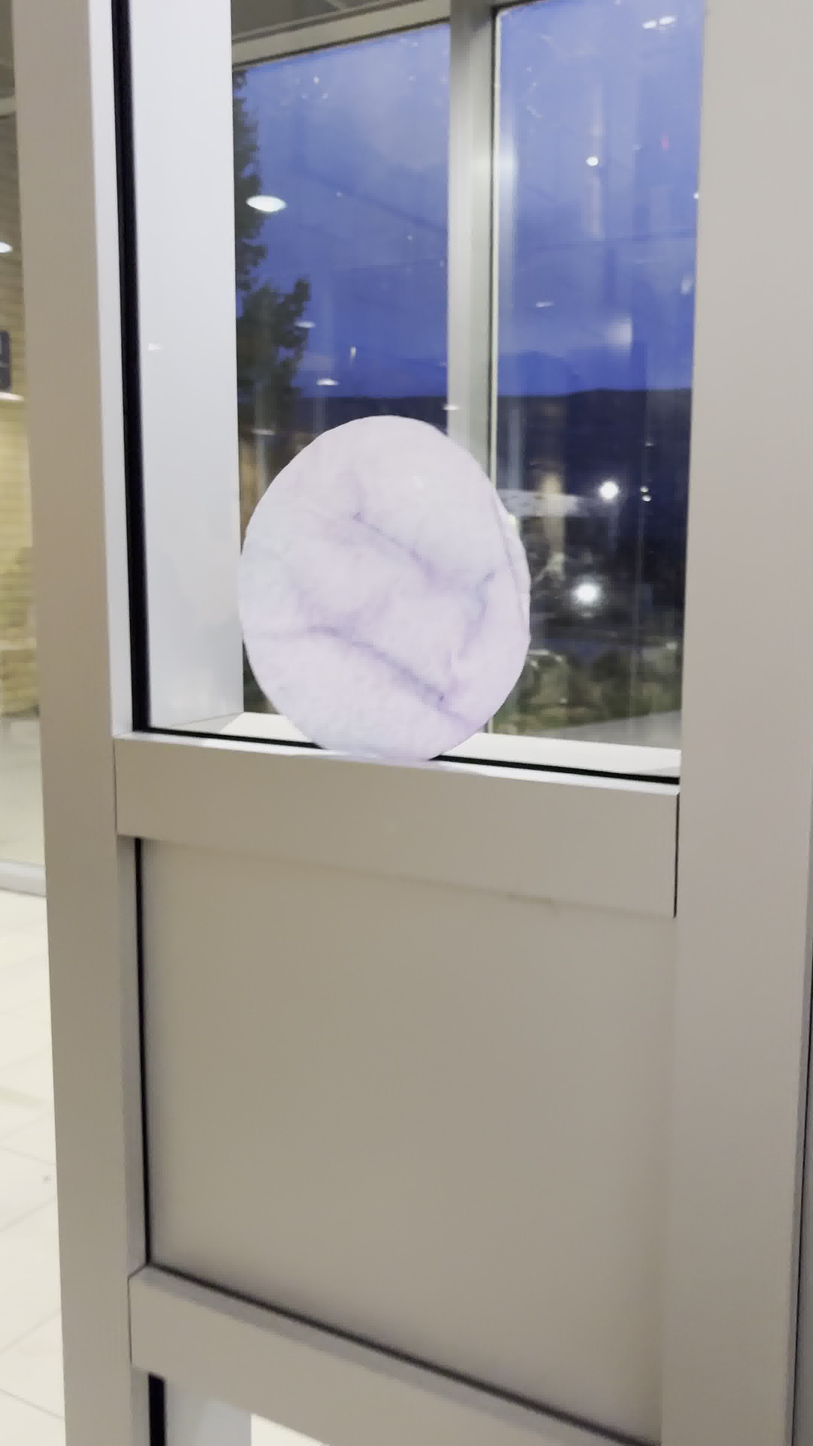Target: (234, 413, 538, 765)
